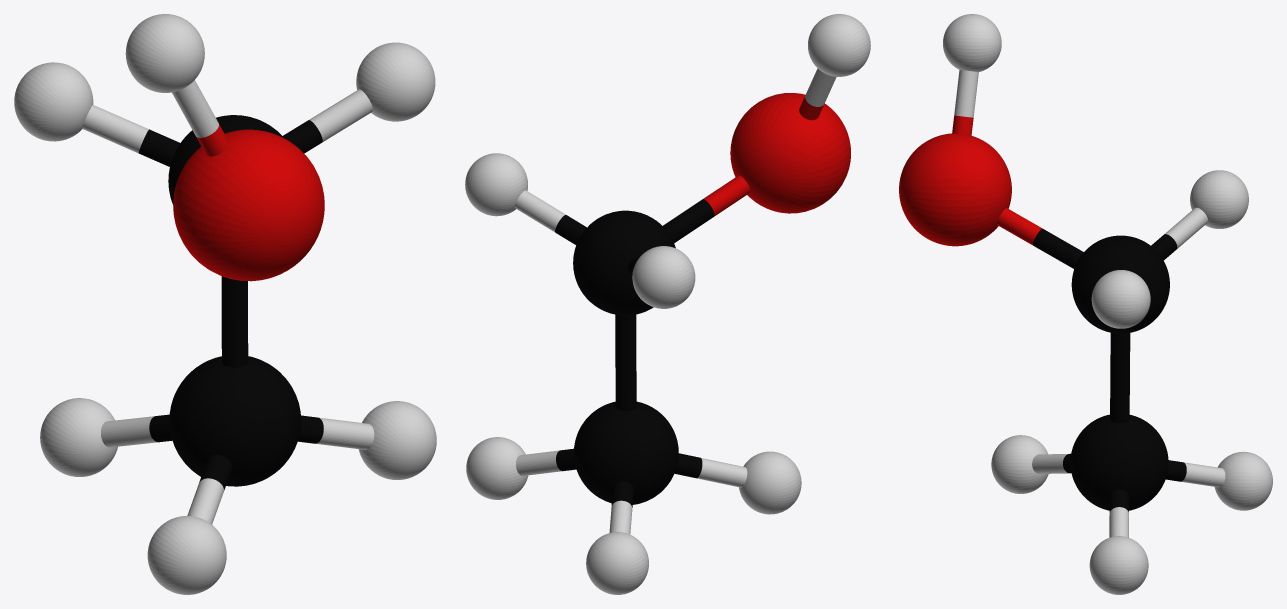
Rendered from Etanol.glb.
3 views of the same model, side by side, from view 1: azimuth 30°, elevation 25°; view 2: azimuth 150°, elevation 25°; view 3: azimuth 270°, elevation 25° (orthographic). The views are drawn at different scales.
Visible parts, largest first — view 1: Esfera_UV.013, Esfera_UV.006, Esfera_UV.003, Esfera_UV.014, Esfera_UV.008, Esfera_UV.007, Esfera_UV.004, Esfera_UV.002, Cilindro.001_Cilindro.001, Cilindro.003, Cilindro.005, Cilindro.002_Cilindro.008 (+4 smaller); view 2: Esfera_UV.013, Esfera_UV.006, Esfera_UV.011, Esfera_UV.008, Esfera_UV.002, Esfera_UV.014, Esfera_UV.007, Esfera_UV.003, Esfera_UV.004, Cilindro.003, Cilindro.001_Cilindro.004, Cilindro.005 (+4 smaller); view 3: Esfera_UV.013, Esfera_UV.006, Esfera_UV.011, Esfera_UV.004, Esfera_UV.007, Esfera_UV.014, Esfera_UV.008, Esfera_UV.002, Esfera_UV.003, Cilindro.001_Cilindro.004, Cilindro.003, Cilindro.002_Cilindro.008 (+4 smaller).
Part boxes in pixels (<box>): Esfera_UV.013: <box>173,129,324,281</box>; Esfera_UV.006: <box>169,356,301,486</box>; Esfera_UV.003: <box>147,516,226,594</box>; Esfera_UV.014: <box>125,14,204,92</box>; Esfera_UV.008: <box>14,62,93,141</box>; Esfera_UV.007: <box>356,42,435,121</box>; Esfera_UV.004: <box>358,401,436,479</box>; Esfera_UV.002: <box>40,398,117,476</box>; Cilindro.001_Cilindro.001: <box>82,105,180,166</box>; Cilindro.003: <box>221,276,248,367</box>; Cilindro.005: <box>283,89,372,153</box>; Cilindro.002_Cilindro.008: <box>172,80,229,156</box>; Esfera_UV.013: <box>730,93,850,213</box>; Esfera_UV.006: <box>574,401,678,504</box>; Esfera_UV.011: <box>573,210,675,315</box>; Esfera_UV.008: <box>632,246,695,308</box>; Esfera_UV.002: <box>586,532,648,594</box>; Esfera_UV.014: <box>808,14,870,76</box>; Esfera_UV.007: <box>465,153,527,216</box>; Esfera_UV.003: <box>739,451,801,514</box>; Esfera_UV.004: <box>466,437,528,499</box>; Cilindro.003: <box>615,314,636,410</box>; Cilindro.001_Cilindro.004: <box>663,175,750,243</box>; Cilindro.005: <box>515,190,586,244</box>; Esfera_UV.013: <box>899,133,1011,246</box>; Esfera_UV.006: <box>1070,414,1168,510</box>; Esfera_UV.011: <box>1071,235,1169,333</box>; Esfera_UV.004: <box>1089,536,1148,594</box>; Esfera_UV.007: <box>1091,270,1150,328</box>; Esfera_UV.014: <box>943,14,1001,71</box>; Esfera_UV.008: <box>1190,170,1248,228</box>; Esfera_UV.002: <box>1214,451,1272,510</box>; Esfera_UV.003: <box>991,435,1048,493</box>; Cilindro.001_Cilindro.004: <box>997,208,1083,268</box>; Cilindro.003: <box>1110,333,1130,423</box>; Cilindro.002_Cilindro.008: <box>952,70,978,135</box>.
Size of the model in its own units: 14.76 by 21.65 by 16.09.
